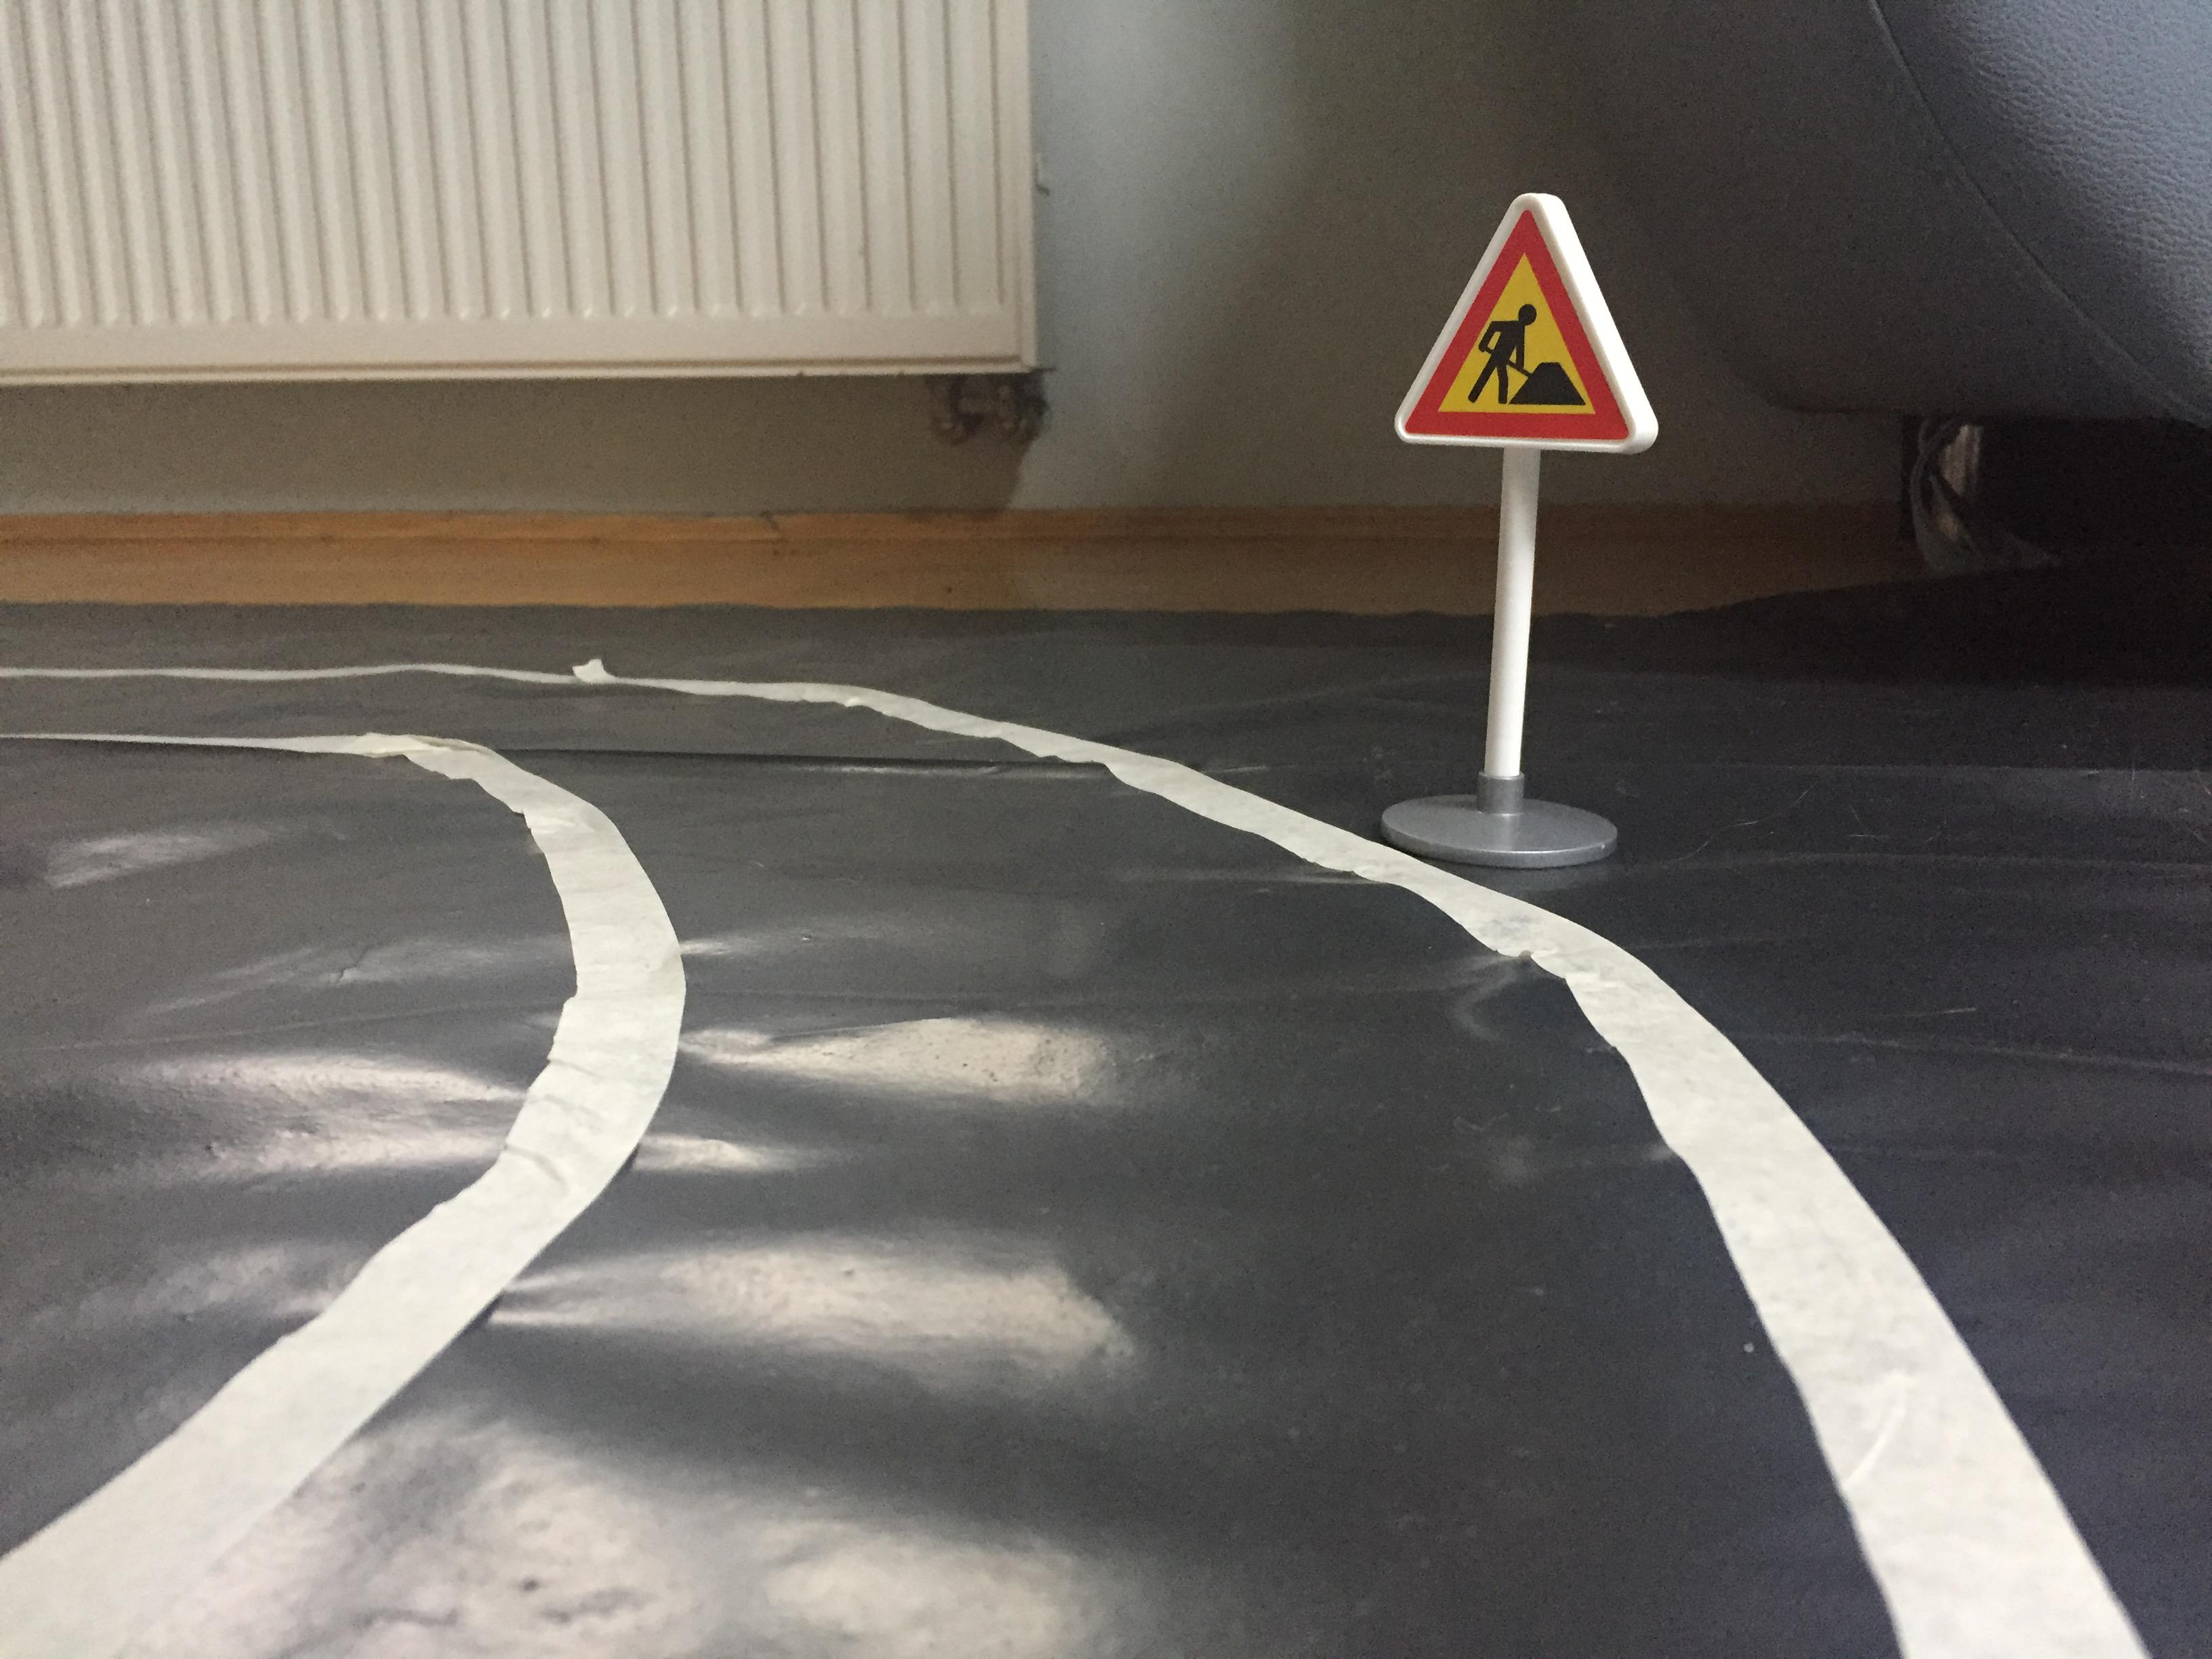work: (1386, 179, 1667, 464)
